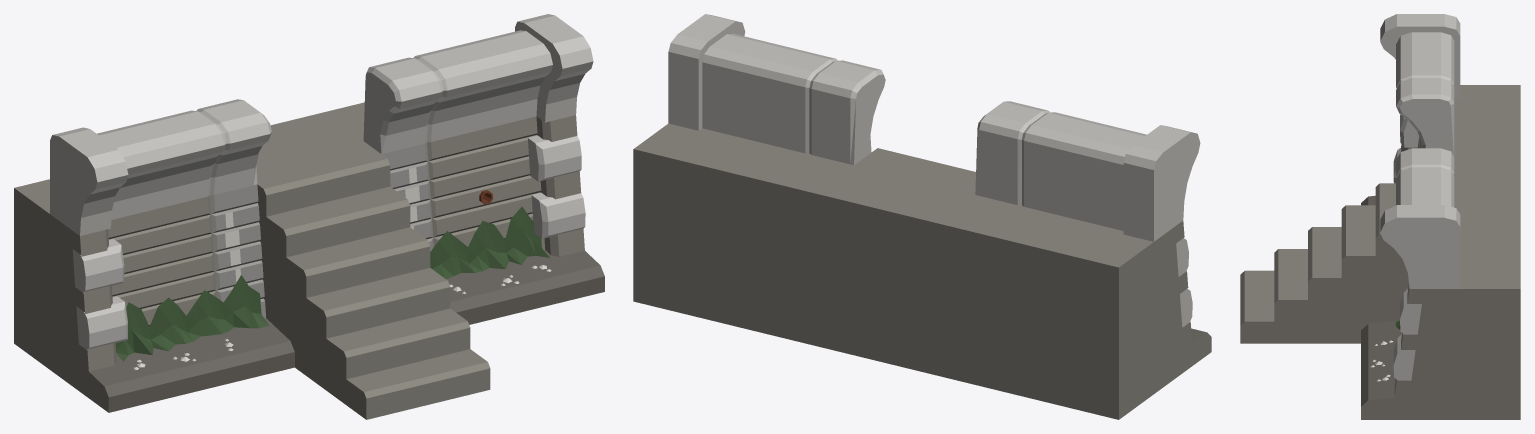
Rendered from sea-wall-run-91e459.glb.
The picture shows the model from 3 angles, left to right: view 1: azimuth 30°, elevation 25°; view 2: azimuth 150°, elevation 25°; view 3: azimuth 270°, elevation 25°; orthographic projection. The views are drawn at different scales.
Parts seen in each view (by area): view 1: sea-wall-run-91e459; view 2: sea-wall-run-91e459; view 3: sea-wall-run-91e459.
Part boxes in pixels (box(x1,y1,x2,y2)): sea-wall-run-91e459: box(14, 14, 604, 419); sea-wall-run-91e459: box(633, 14, 1211, 419); sea-wall-run-91e459: box(1240, 14, 1520, 419).
Size of the model in its own units: 4 by 1.85 by 2.32.
